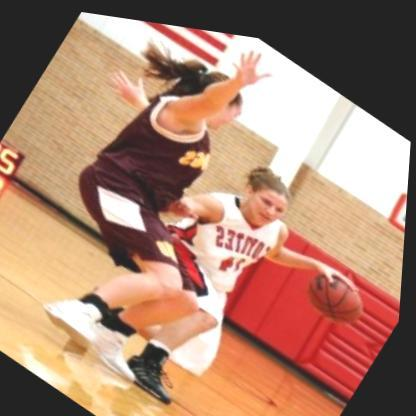basketball: (294, 240, 381, 329)
